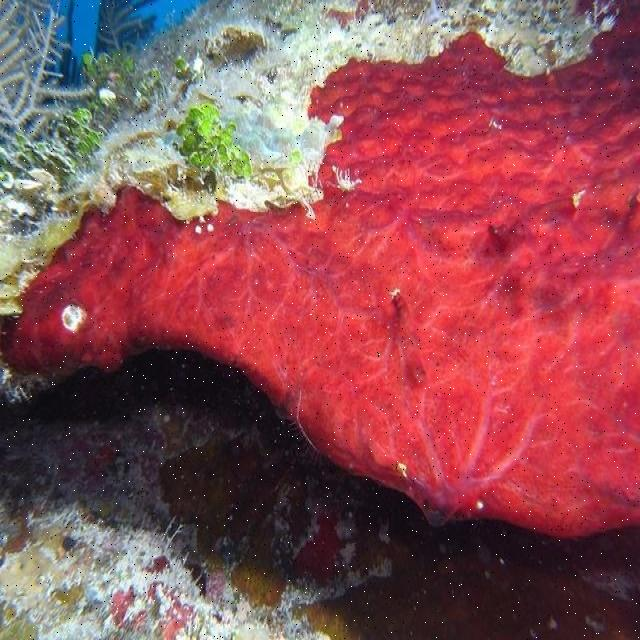aquatic plants: (0, 1, 159, 221), (171, 104, 251, 179)
reefs: (0, 0, 639, 537)
